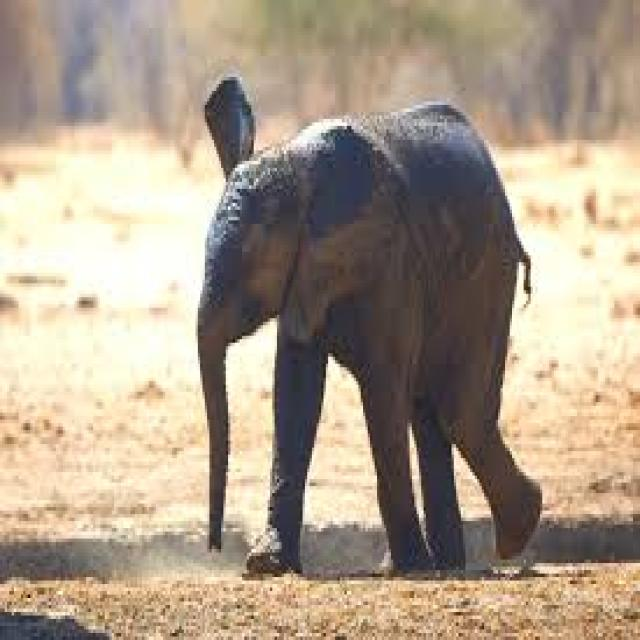Elephant: (195, 73, 542, 577)
